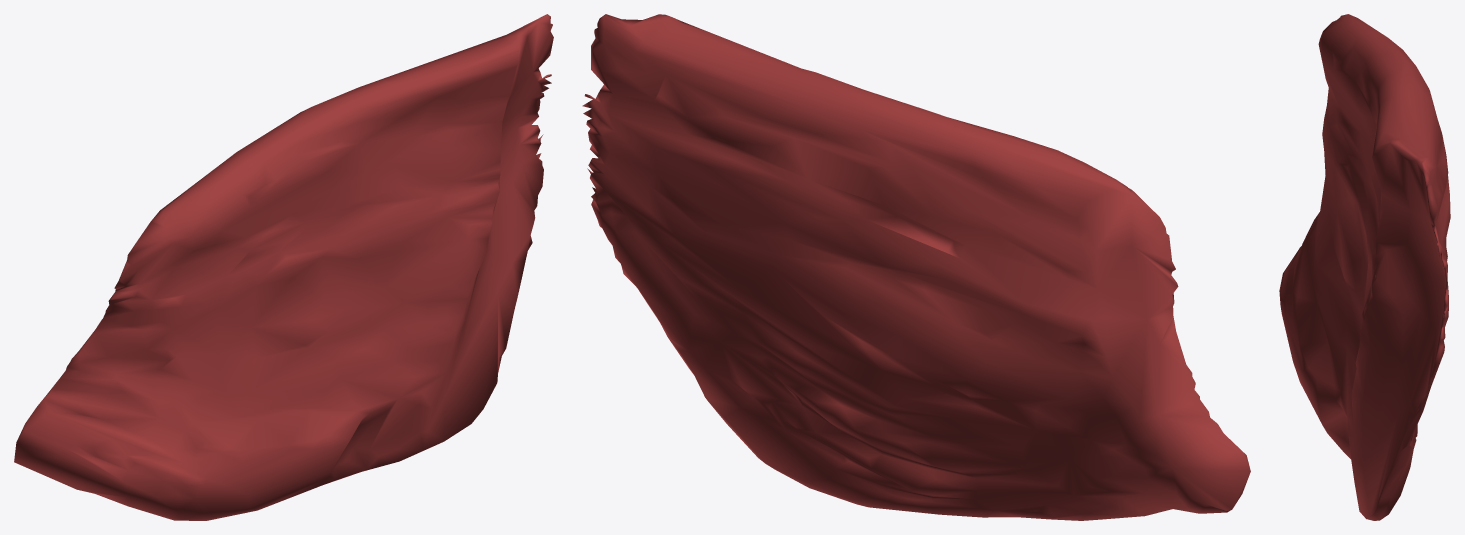
The model's file is quadratus-femoris-muscle-l.glb.
3 renders of one model, left to right at view 1: azimuth 30°, elevation 25°; view 2: azimuth 150°, elevation 25°; view 3: azimuth 270°, elevation 25°, orthographic. The views are drawn at different scales.
Parts seen in each view (by area): view 1: Quadratus femoris muscle.l; view 2: Quadratus femoris muscle.l; view 3: Quadratus femoris muscle.l.
Boxes of the visible parts, <box> form: Quadratus femoris muscle.l: <box>14,14,553,520</box>; Quadratus femoris muscle.l: <box>582,14,1250,520</box>; Quadratus femoris muscle.l: <box>1279,14,1450,520</box>.
Size of the model in its own units: 0.0685 by 0.0457 by 0.0161.
